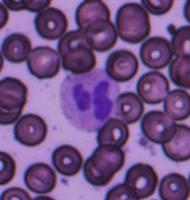N: (60, 68, 120, 131)
